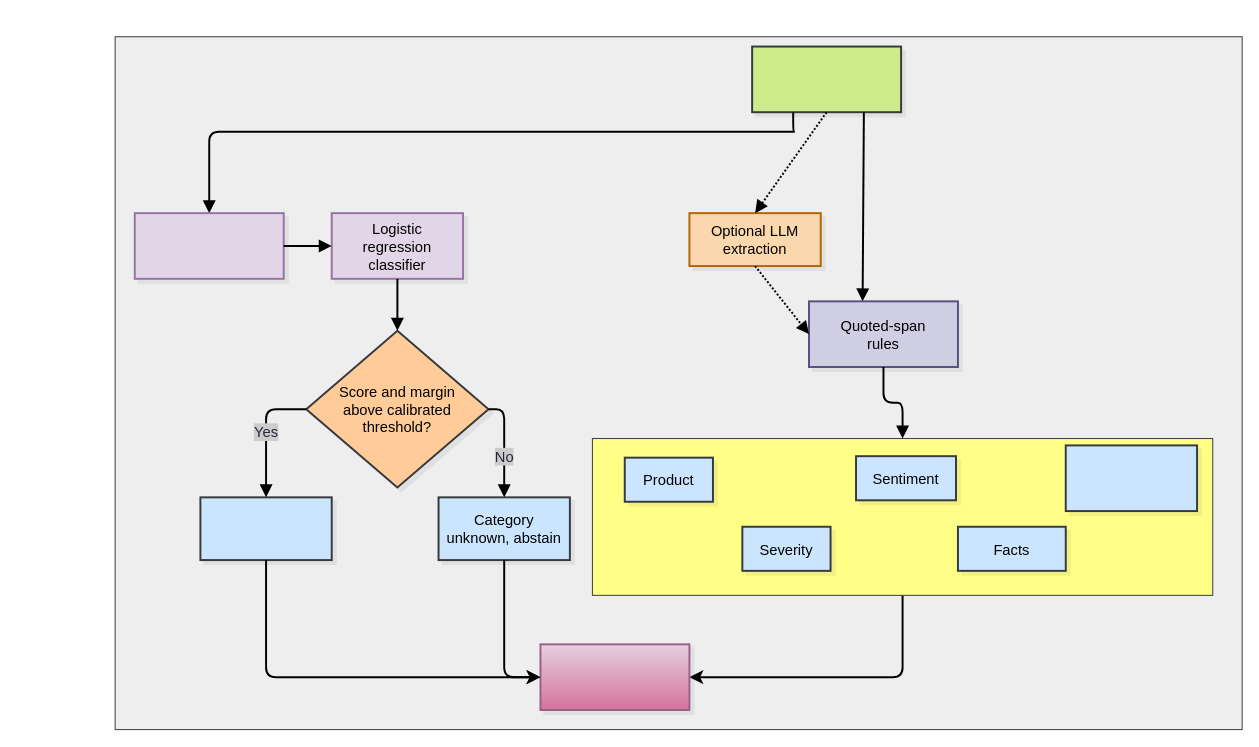
Image size: 1259x747. Some labels were removed from this diagram. The shapes that lost their labels are listed below. From the top down, each one's centre as x and y in pixels, then its label:
At point 828,81: "Scrubbed complaint".
At point 210,247: "MiniLM embedding".
At point 1132,479: "Actions already tried".
At point 267,530: "Category accepted".
At point 616,678: "Structured analysis".
